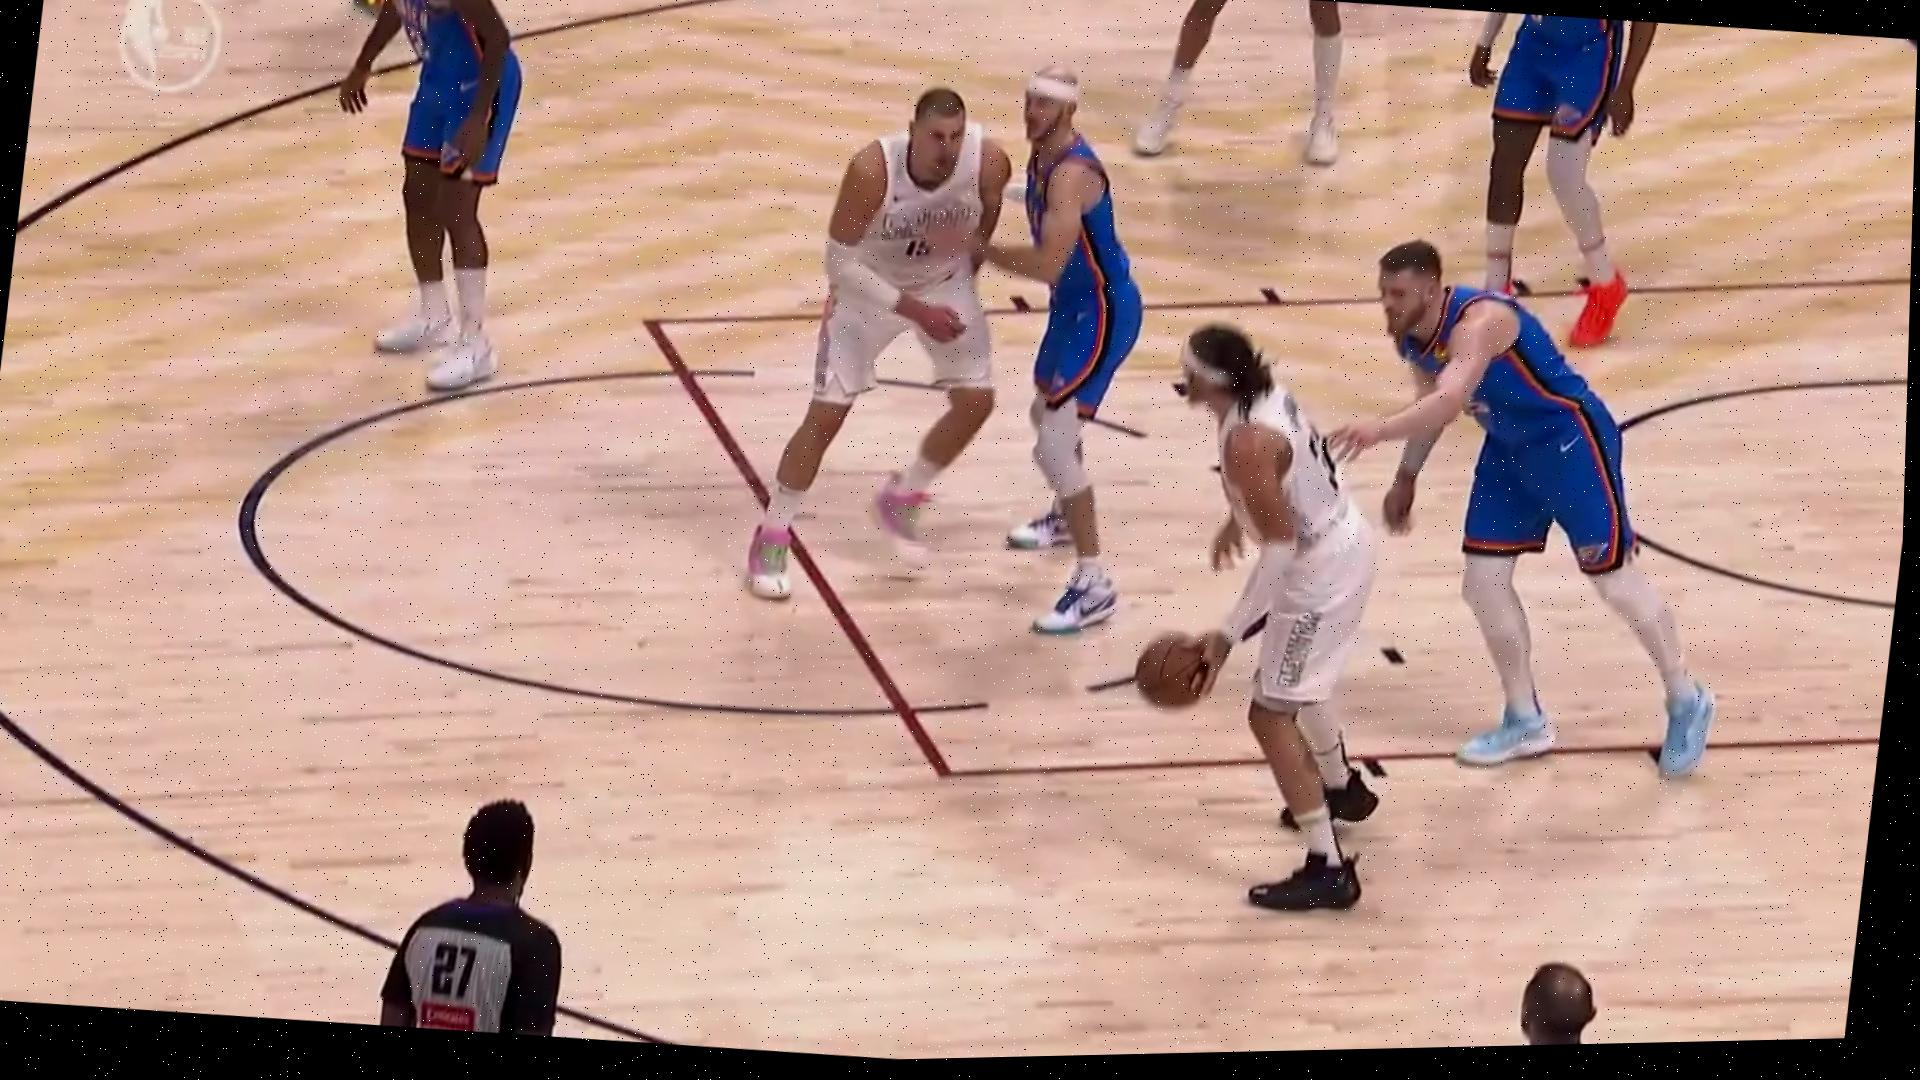no_foul: (733, 8, 1207, 649)
